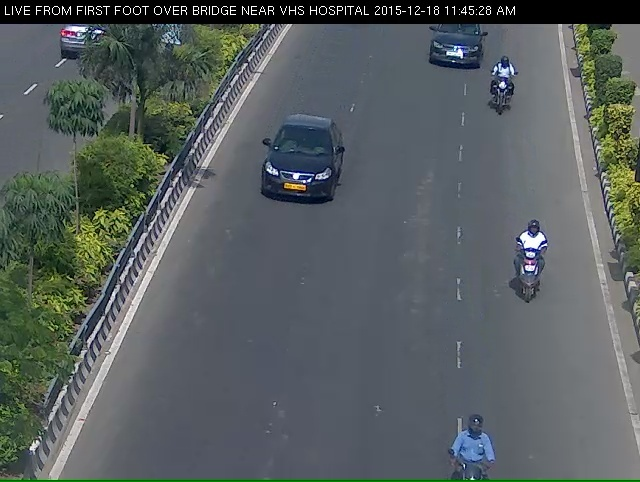Car: (246, 112, 345, 227)
Person: (511, 235, 554, 326), (489, 61, 519, 130)
